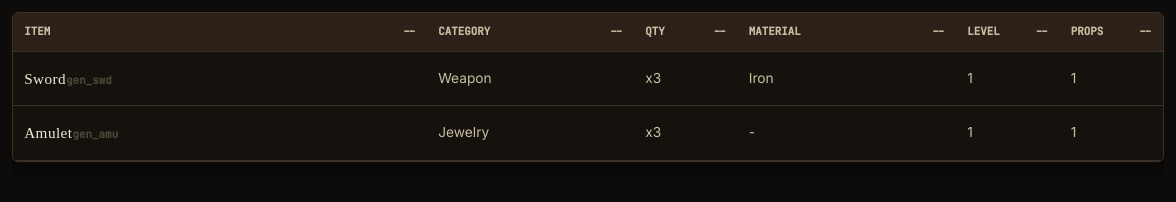
Test: InventoryTable › expands on click and collapses on second click
This screenshot has width=1176, height=202.
Expected: the text "Sword" is shown, [24,70,66,87]
Expected: the text "Amulet" is shown, [24,124,72,141]
Click the button "Sword" at [45, 78], box [24,60,416,97]
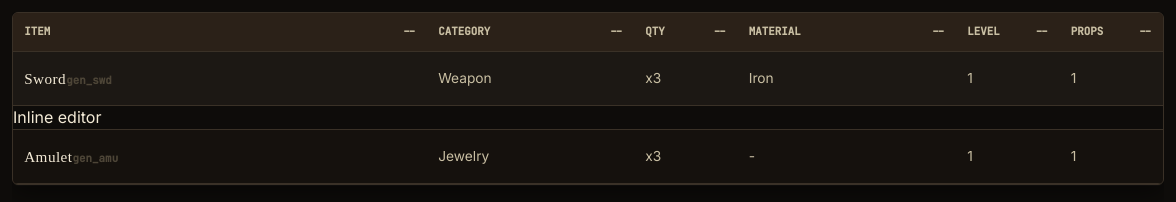
Expected: the text "Inline editor" is shown, [13,107,102,127]
Click the button "Sword" at [45, 78], box [24,60,416,97]
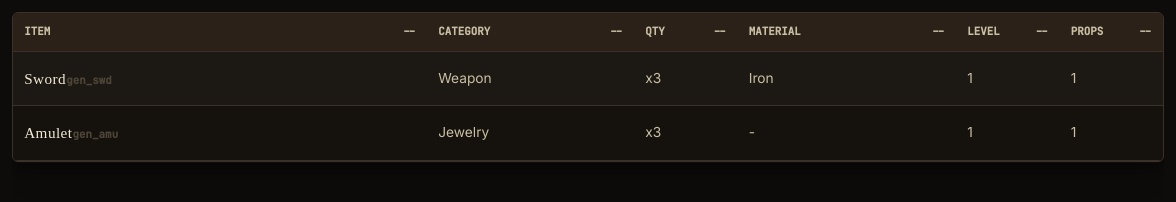
Expected: the text "Inline editor" is gone
